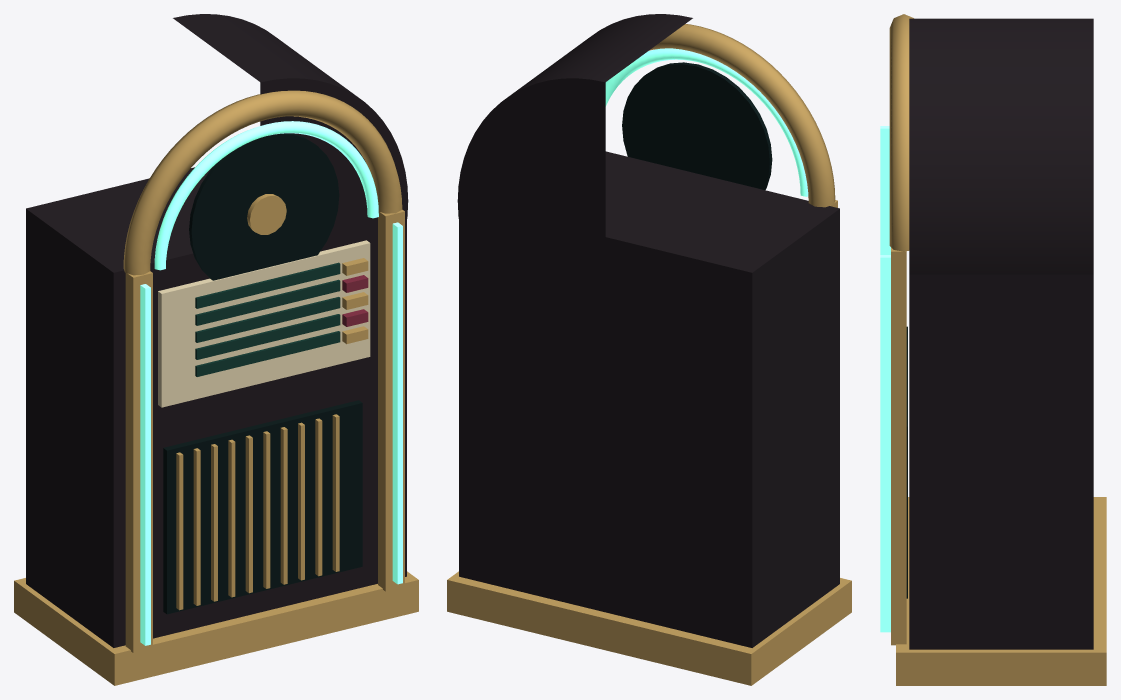
Rendered from jukebox.glb.
3 views of the same model, side by side, from view 1: azimuth 30°, elevation 25°; view 2: azimuth 150°, elevation 25°; view 3: azimuth 270°, elevation 25° (orthographic). The views are drawn at different scales.
Size of the model in its own units: 1.4 by 2.48 by 0.86.
